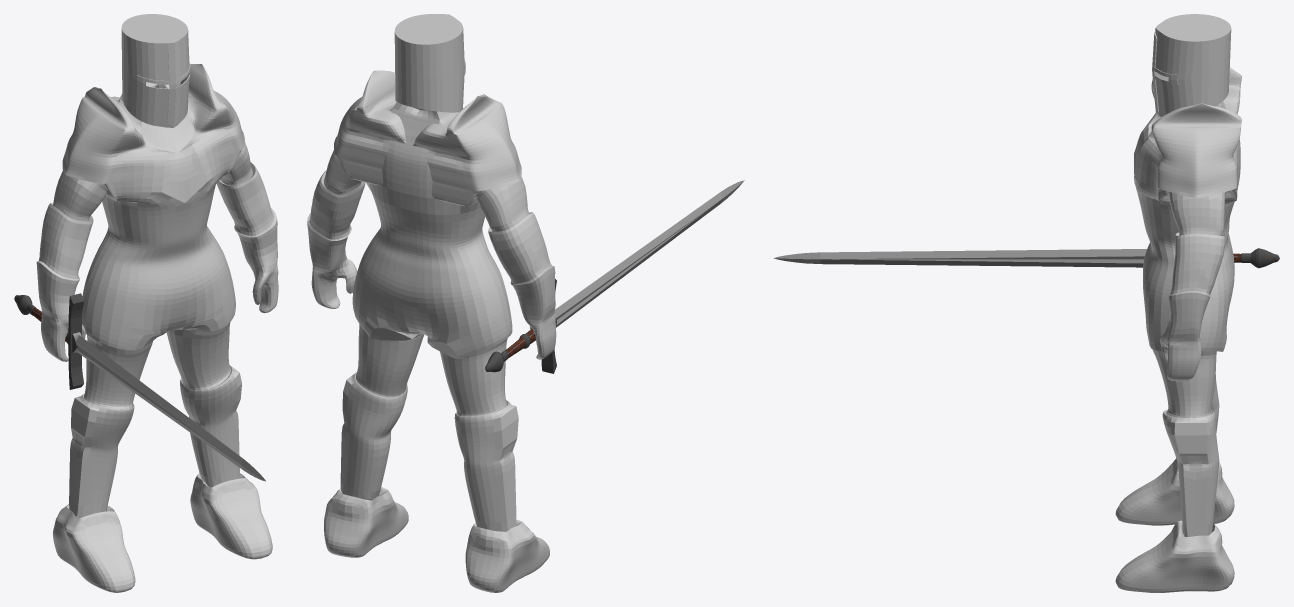
Rendered from Guardian.fbx.
3 renders of one model, left to right at view 1: azimuth 30°, elevation 25°; view 2: azimuth 150°, elevation 25°; view 3: azimuth 270°, elevation 25°, orthographic. The views are drawn at different scales.
Visible parts, largest first — view 1: Cube, Cube.001; view 2: Cube, Cube.001; view 3: Cube, Cube.001.
Boxes of the visible parts, x1=… form: Cube: x1=36, y1=14, x2=278, y2=592; Cube.001: x1=14, y1=293, x2=265, y2=481; Cube: x1=307, y1=14, x2=556, y2=592; Cube.001: x1=485, y1=180, x2=744, y2=373; Cube: x1=1115, y1=14, x2=1241, y2=592; Cube.001: x1=773, y1=248, x2=1279, y2=268.
Bounding box in the file's own units: 88.82 × 190 × 167.
